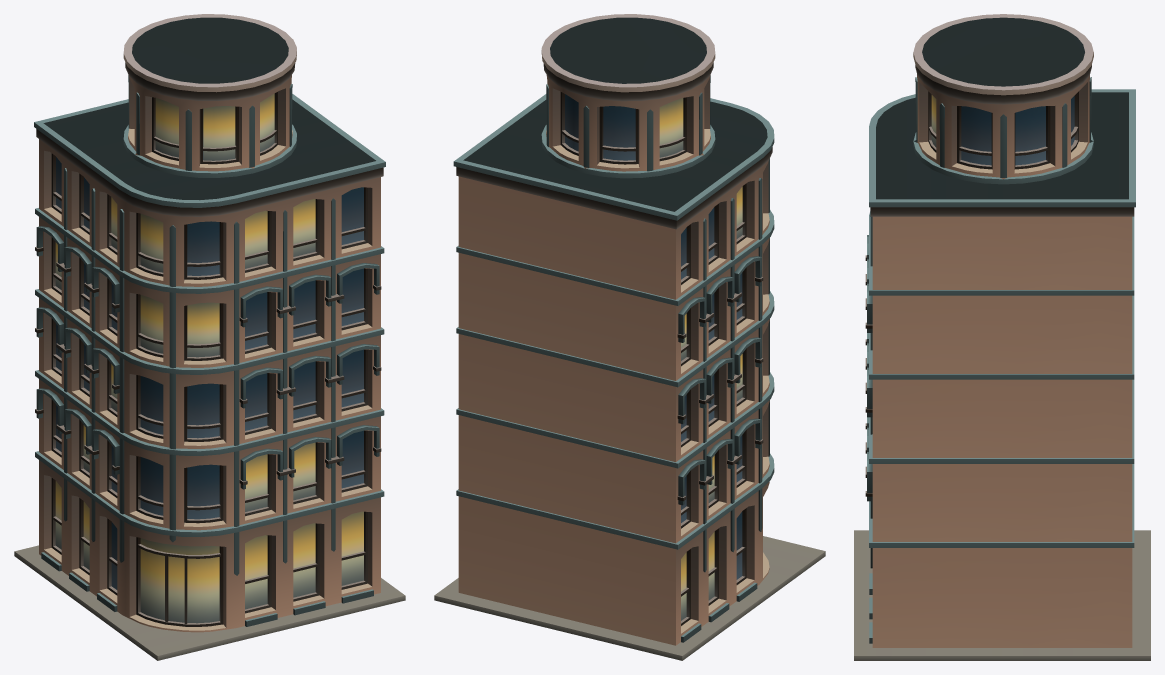
File: Building_20B.fbx
3 renders of one model, left to right at view 1: azimuth 30°, elevation 25°; view 2: azimuth 150°, elevation 25°; view 3: azimuth 270°, elevation 25°, orthographic. The views are drawn at different scales.
Visible parts, largest first — view 1: Building_20B, Window_Lights_20B; view 2: Building_20B, Window_Lights_20B; view 3: Building_20B.
Boxes of the visible parts, x1,y1,x2,y2 form: Building_20B: (14,14,405,660); Window_Lights_20B: (55,93,363,623); Building_20B: (434,14,825,660); Window_Lights_20B: (659,98,742,620); Building_20B: (854,14,1150,660).
Bounding box in the file's own units: 1600 × 3250 × 1600.
